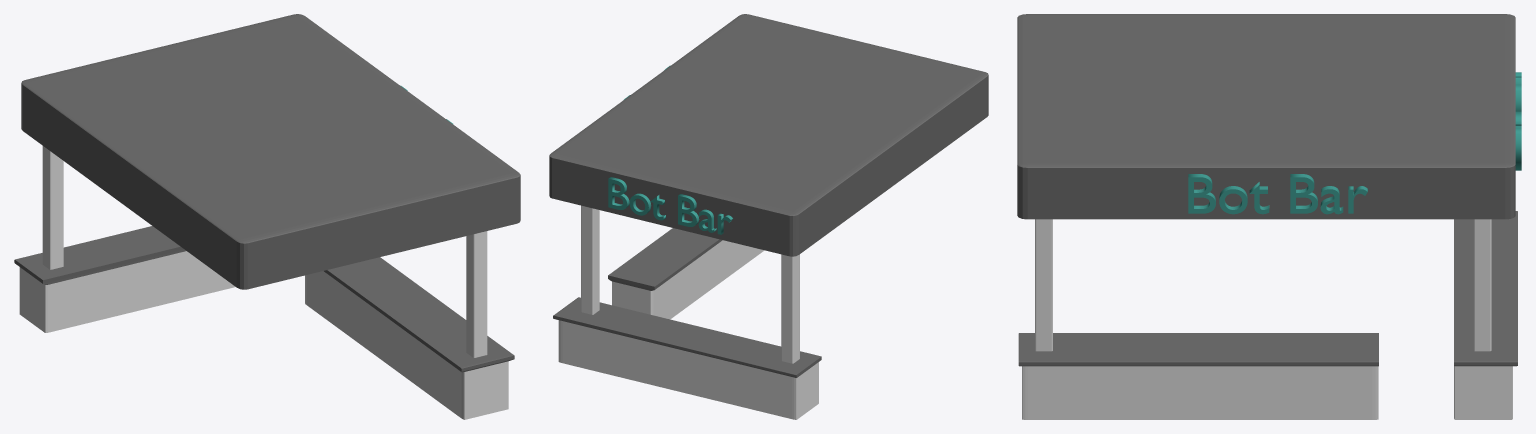
File: Bar.fbx
3 renders of one model, left to right at view 1: azimuth 30°, elevation 25°; view 2: azimuth 150°, elevation 25°; view 3: azimuth 270°, elevation 25°, orthographic. The views are drawn at different scales.
Visible parts, largest first — view 1: Roof, Counter1, Counter2, Pole1, Pole3; view 2: Roof, Counter2, Counter1, Text2, Pole3, Pole2; view 3: Roof, Counter1, Counter2, Text, Pole2, Pole1, Text2.
Boxes of the visible parts, x1,y1,x2,y2 form: Roof: (21,14,520,289); Counter1: (305,257,514,419); Counter2: (14,226,235,332); Pole1: (466,231,487,357); Pole3: (42,146,63,269); Roof: (549,14,988,256); Counter2: (553,297,821,419); Counter1: (608,228,764,319); Text2: (608,177,732,234); Pole3: (781,254,799,363); Pole2: (581,205,599,314); Roof: (1017,14,1515,219); Counter1: (1018,333,1378,419); Counter2: (1454,211,1517,419); Text: (1188,174,1367,214); Pole2: (1473,219,1491,351); Pole1: (1035,219,1052,351); Text2: (1515,72,1521,170).
Size of the model in its own units: 1271 by 969 by 1705.
